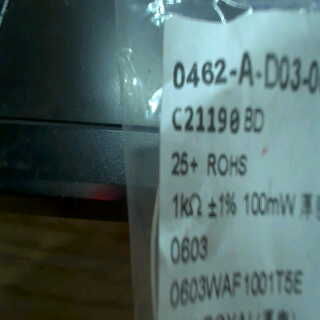1kR: (157, 189, 205, 225)
